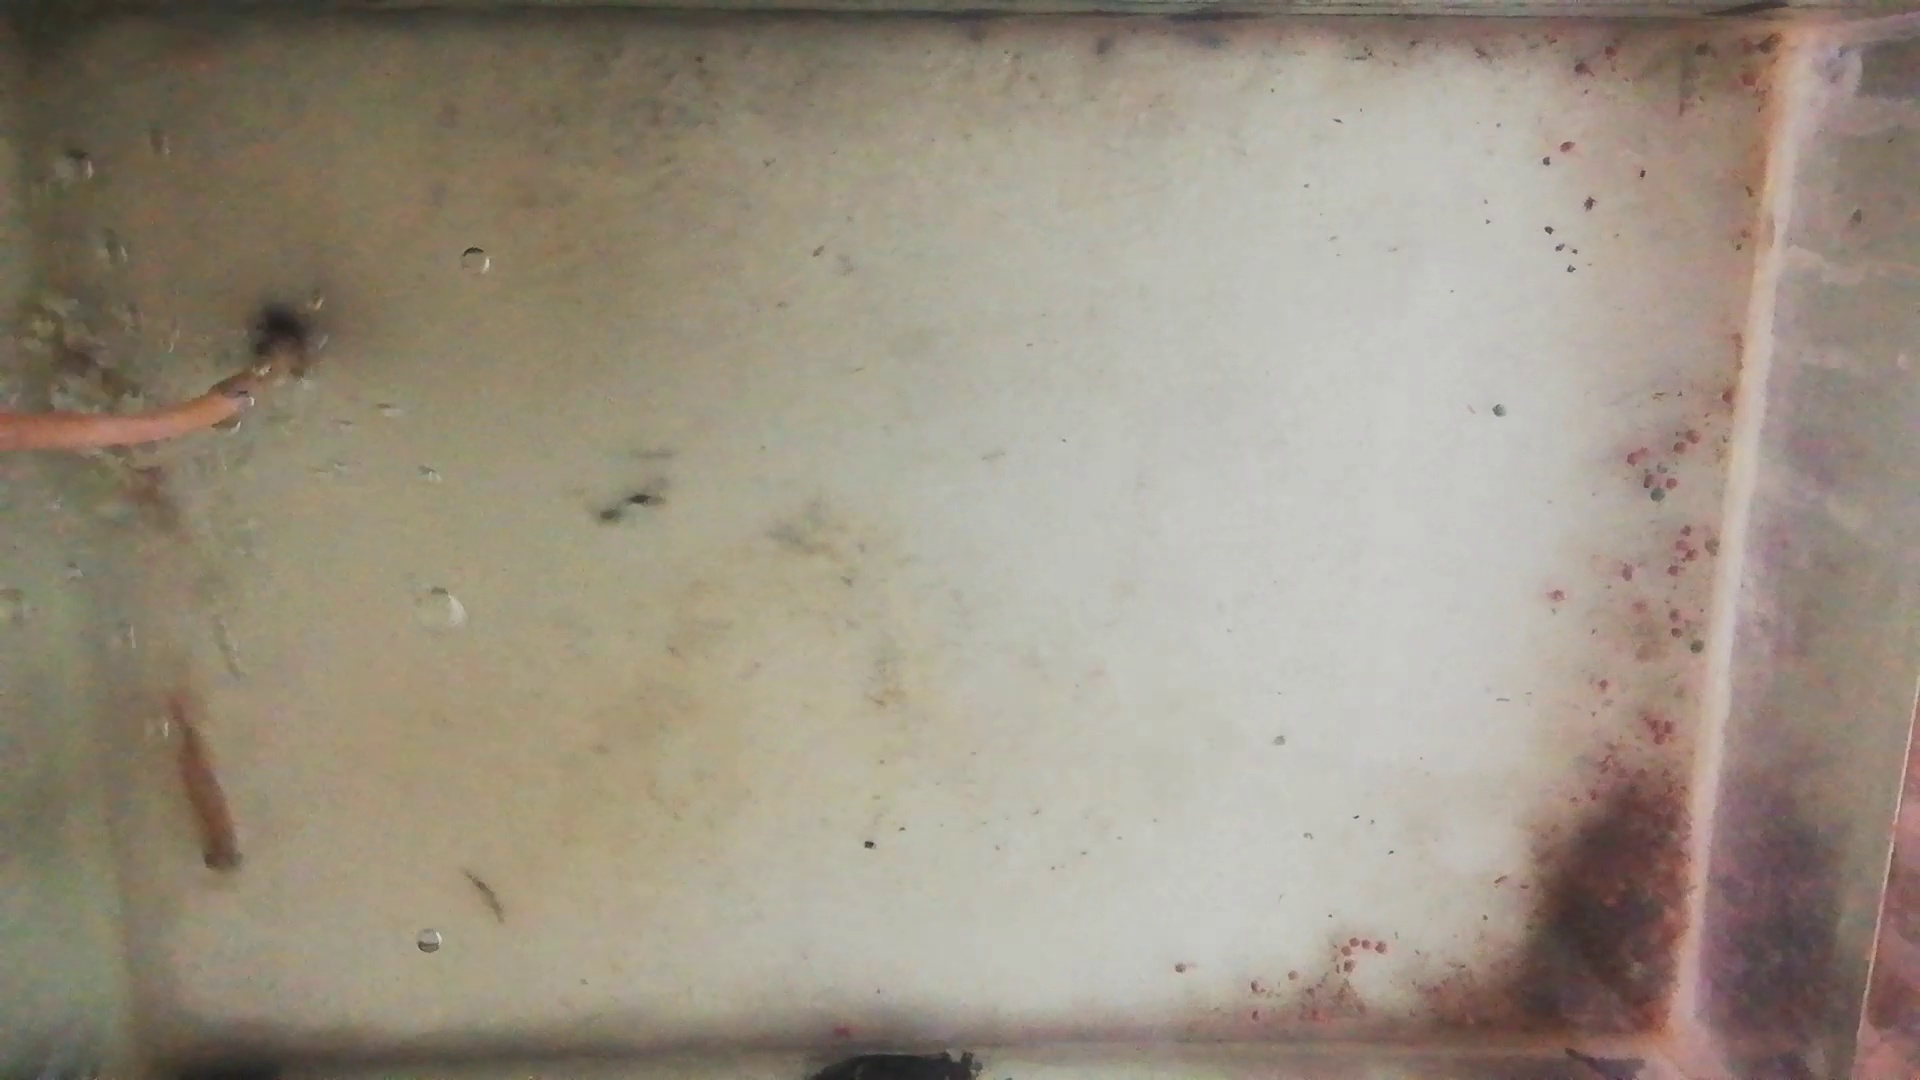fish: (164, 702, 247, 877), (40, 332, 148, 415)
